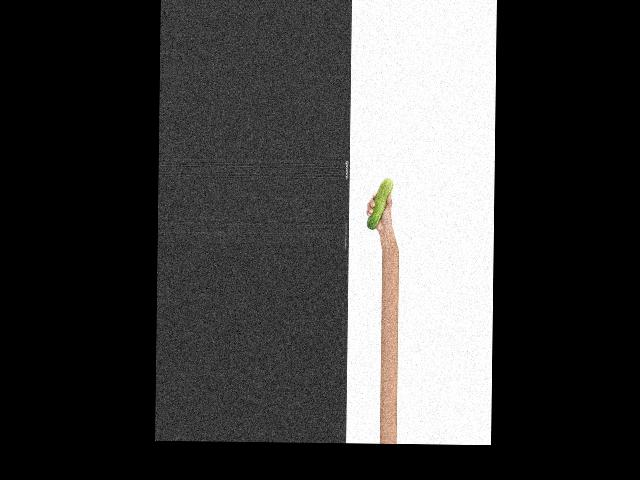cucumber: (366, 178, 393, 230)
